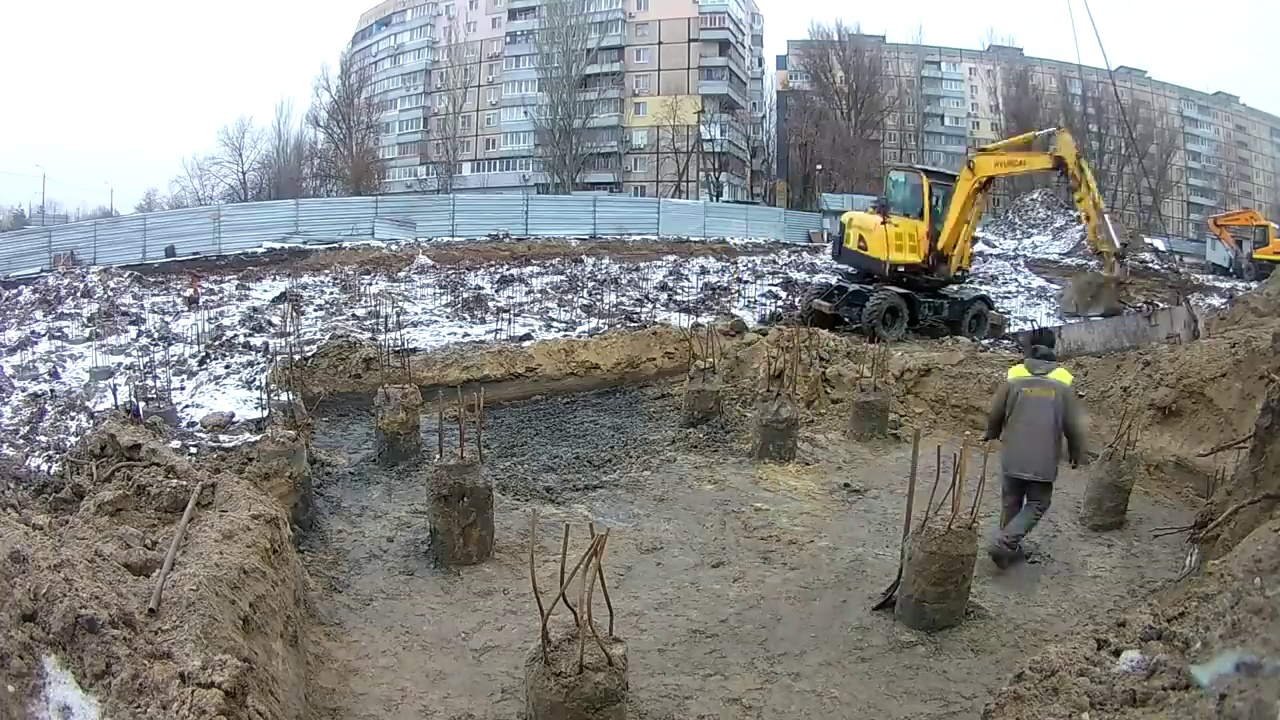helmet-off: (1018, 327, 1060, 375)
person: (980, 327, 1090, 572)
